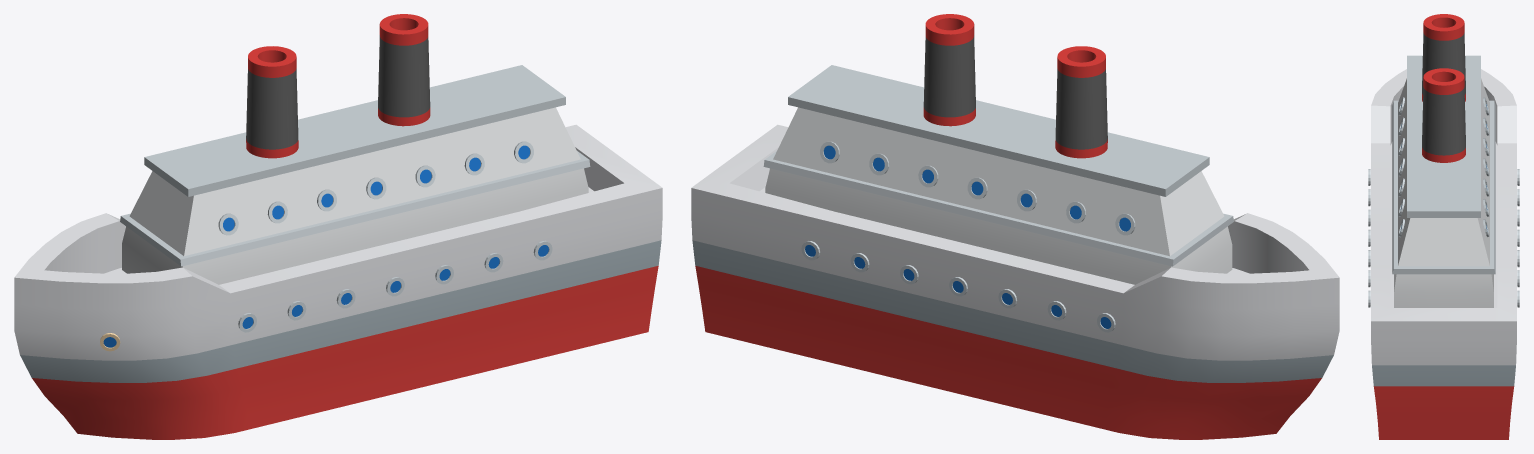
The model's file is ship.fbx.
The picture shows the model from 3 angles, left to right: view 1: azimuth 30°, elevation 25°; view 2: azimuth 150°, elevation 25°; view 3: azimuth 270°, elevation 25°; orthographic projection. The views are drawn at different scales.
Visible parts, largest first — view 1: Cube.788; view 2: Cube.788; view 3: Cube.788.
Boxes of the visible parts, x1,y1,x2,y2 form: Cube.788: (14,14,662,439); Cube.788: (691,14,1339,439); Cube.788: (1368,14,1519,439).
Size of the model in its own units: 238 by 125 by 61.03.
1 material, 1 textured.
